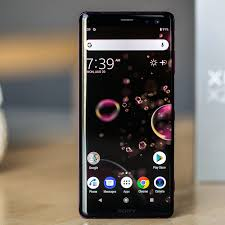sony: (77, 9, 176, 220)
